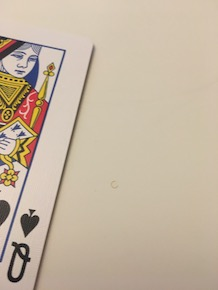QueenOfSpades: (1, 14, 95, 288)
